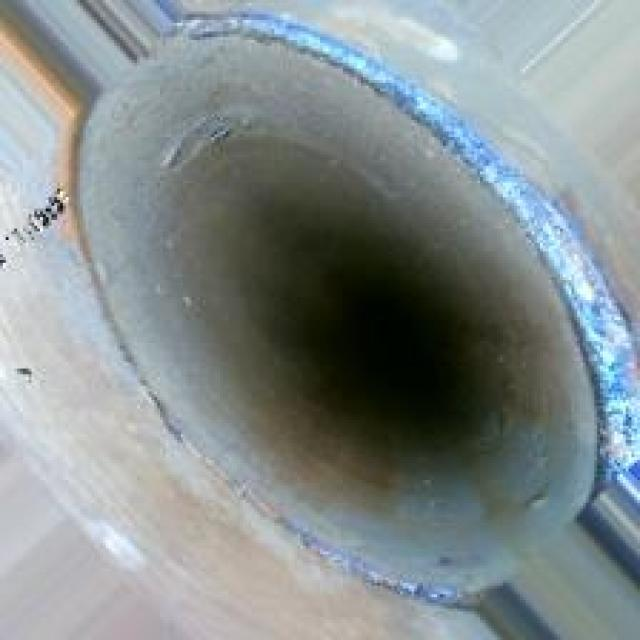joint: (68, 20, 623, 623)
